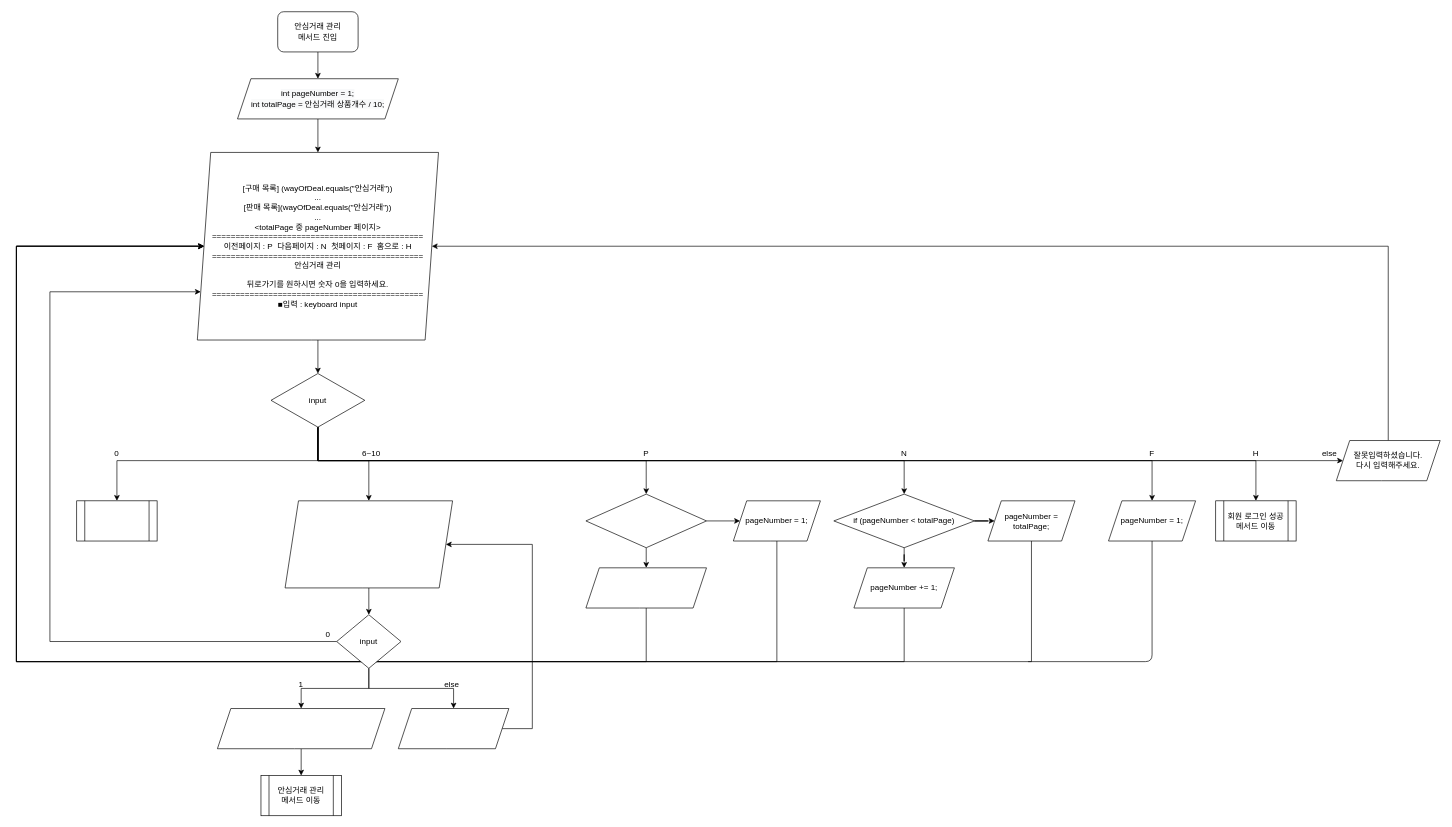
Some shapes in this 1452 by 827 pixel diagram are drawn without their labels. The shapes that lost their labels are listed below. From the top down, each one's centre as x and y in pixels, then its label:
(x=116, y=520): 게시글 관리 메서드 이동
(x=646, y=520): if (pageNumber > 1)
(x=368, y=544): [상품 정보] ... 안심거래 관리 1. 입금 확인하기 0. 뒤로가기 ■입력 : keyboard input
(x=646, y=587): pageNumber -= 1;
(x=301, y=728): 입금 확인되었습니다. (입금 확인되지 않았습니다.) 계속하시려면 엔터를 눌러주세요.
(x=453, y=728): 잘못 입력하셨습니다. 다시 입력해주세요.
